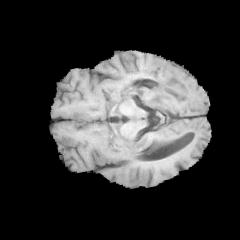glioma: (140, 59, 192, 97)
